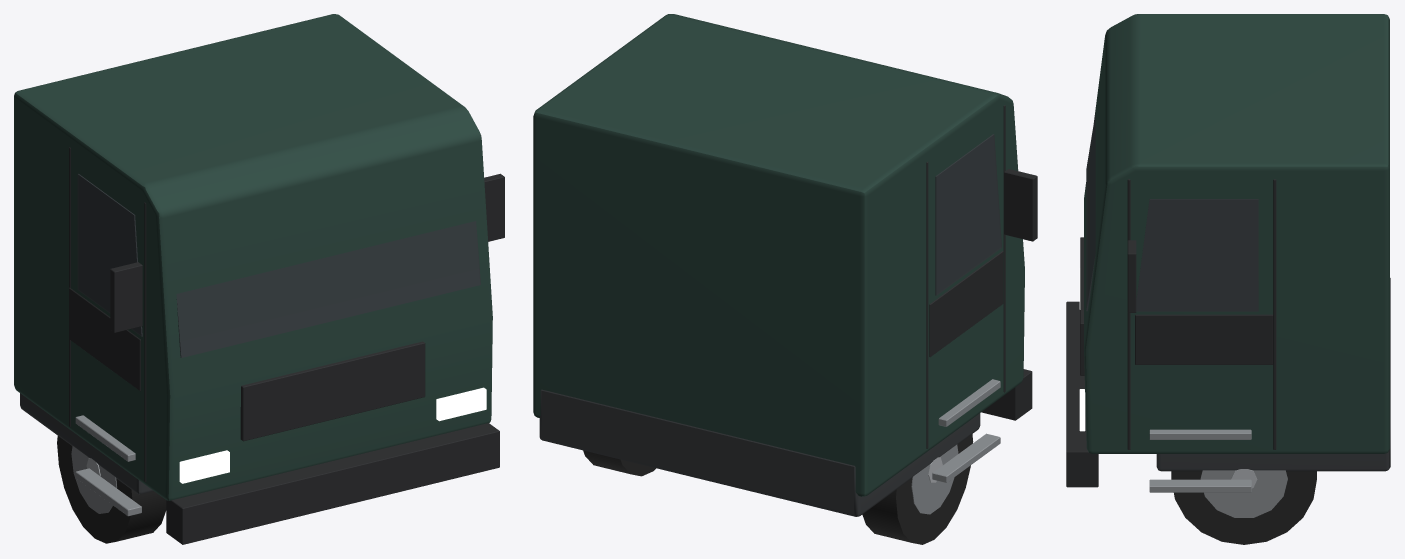
The model's file is veh_armored_cab_cash.glb.
3 renders of one model, left to right at view 1: azimuth 30°, elevation 25°; view 2: azimuth 150°, elevation 25°; view 3: azimuth 270°, elevation 25°, orthographic. The views are drawn at different scales.
Visible parts, largest first — view 1: Body, Wheels, CabDoorLMesh; view 2: Body, Wheels, CabDoorLMesh; view 3: Body, Wheels, CabDoorRMesh.
Part boxes in pixels (x1,y1,x2,y2): Body: (14,14,504,544); Wheels: (57,436,166,543); CabDoorLMesh: (69,287,140,391); Body: (533,14,1037,516); Wheels: (583,434,973,544); CabDoorLMesh: (929,251,1003,356); Body: (1066,14,1390,492); Wheels: (1171,469,1316,544); CabDoorRMesh: (1135,314,1273,364).
Bounding box in the file's own units: 3 × 2.9 × 2.22.
